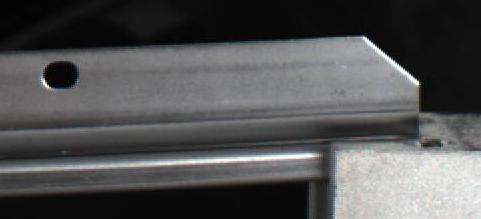cut: (281, 35, 421, 179)
holes: (42, 60, 79, 90)
